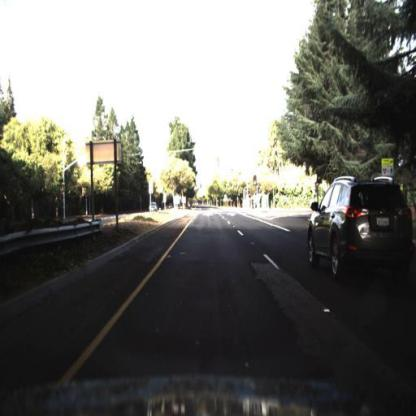car: (306, 176, 415, 285), (150, 201, 160, 215)
trafficLight-Green: (253, 173, 260, 191)
